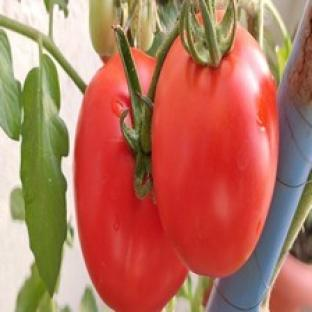Tomato: (152, 27, 278, 277), (74, 55, 186, 311)
